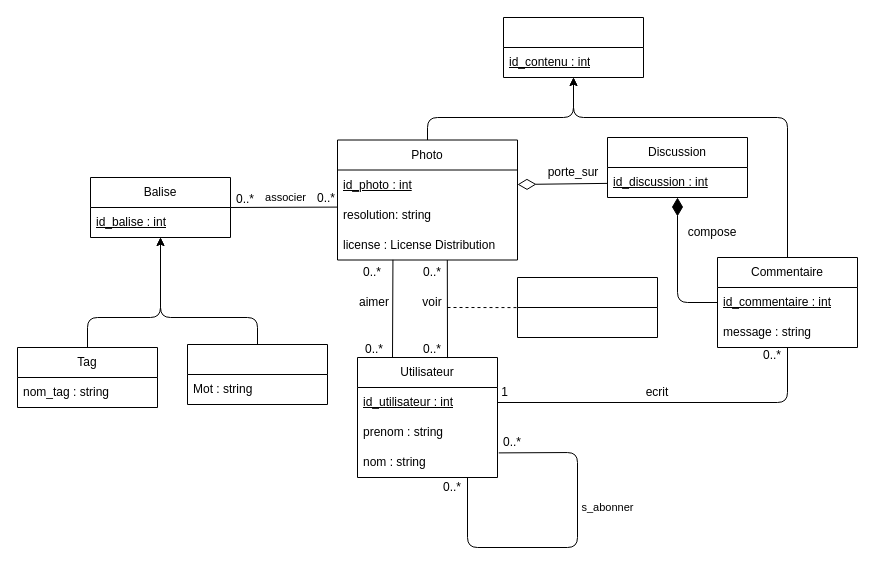
This 875x566 diagram has some shape labels left out. The shapes that lost their labels are listed below. From the top down, each one's box as (x1, y1, x2, y2) in pixels, then its label:
(502, 16, 644, 78): Contenu Numérique
(516, 276, 658, 338): nb_vues : int
(186, 344, 328, 404): Mot_Cle
